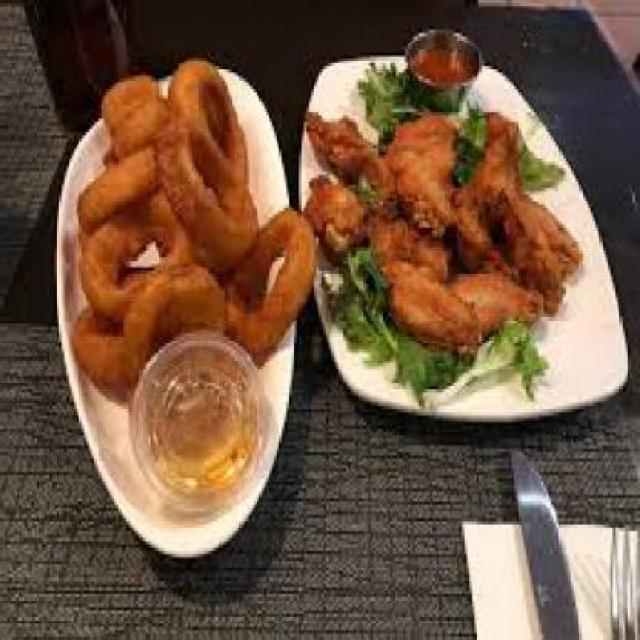chicken wings: (313, 106, 589, 377)
onion rings: (54, 52, 314, 392)
